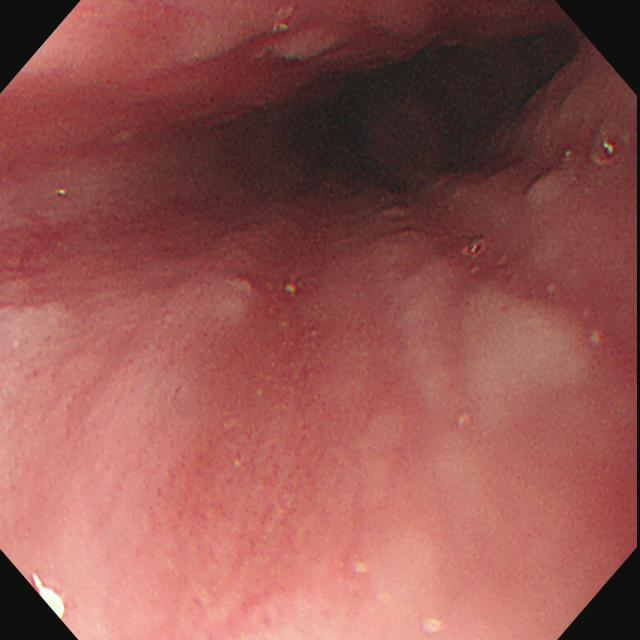A: (169, 4, 359, 67)
E: (290, 30, 537, 204)
J: (362, 218, 608, 469), (17, 222, 288, 448)
T: (589, 124, 628, 167), (462, 237, 490, 259)
U: (30, 571, 70, 625)
